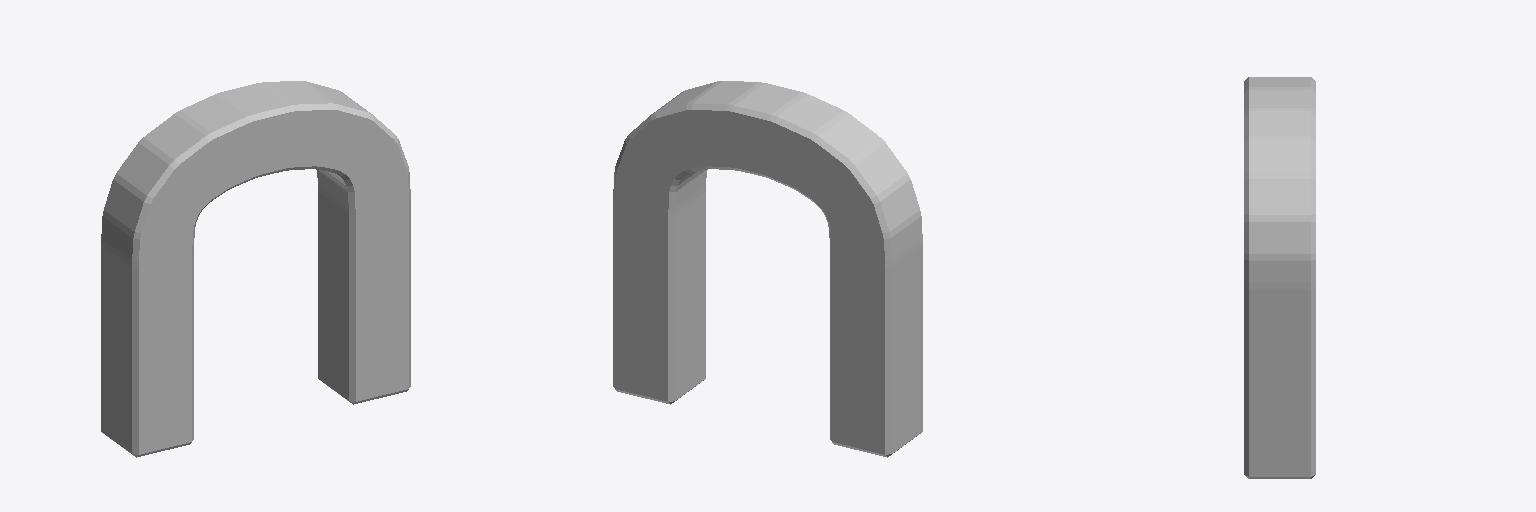
The model's file is archBlock.obj.
The picture shows the model from 3 angles: view 1: azimuth 30°, elevation 25°; view 2: azimuth 150°, elevation 25°; view 3: azimuth 270°, elevation 25°; orthographic projection.
Parts seen in each view (by area): view 1: pCube3; view 2: pCube3; view 3: pCube3.
Part boxes in pixels (left/top/right/bottom): pCube3: left=101, top=81, right=410, bottom=457; pCube3: left=613, top=81, right=922, bottom=457; pCube3: left=1244, top=77, right=1315, bottom=478.
Bounding box in the file's own units: 9 × 9.7 × 2.